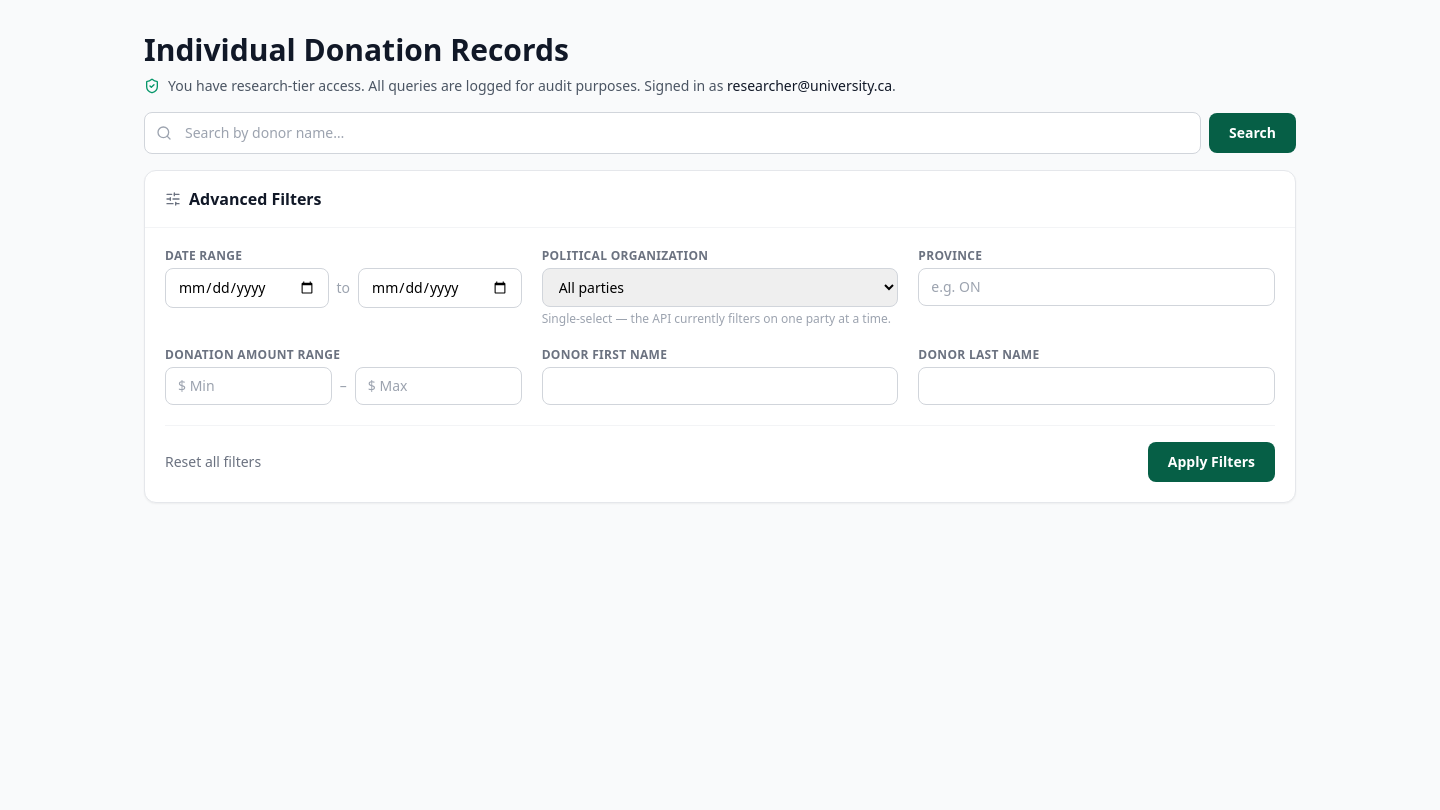
Test: ResearcherDashboardPage — results & export › renders returned records
Check: the text "researcher@university.ca" is shown, box x1=727 y1=76 x2=892 y2=95
Type "Lovelace" into the field with placeholder "Search by donor name…" at (673, 133), box x1=144 y1=112 x2=1201 y2=154
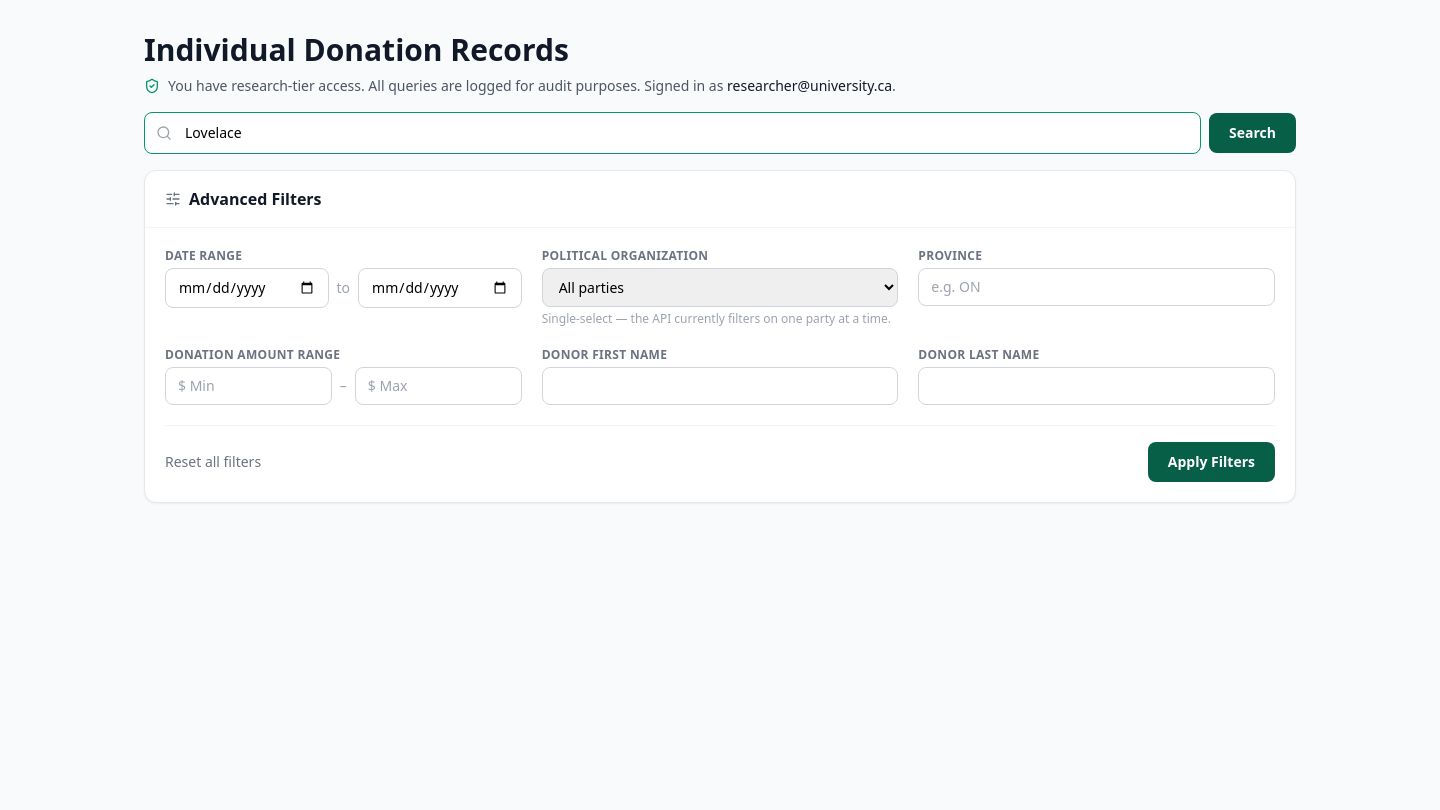
Click the button "Search" at (1253, 133), box x1=1209 y1=113 x2=1296 y2=153
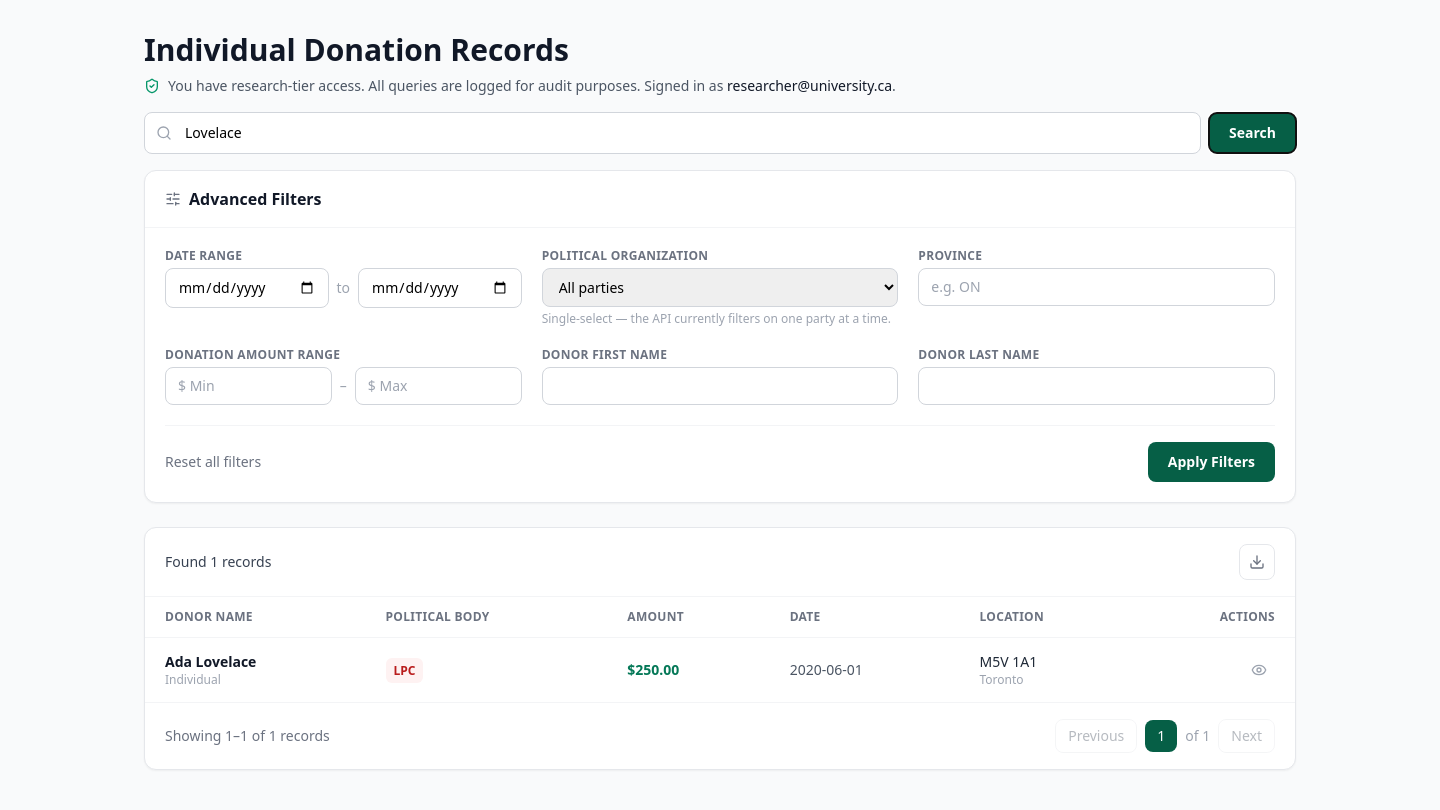
Check: the text "Ada Lovelace" is shown, box x1=165 y1=652 x2=256 y2=671
Check: the text "Found 1 records" is shown, box x1=165 y1=552 x2=271 y2=572
